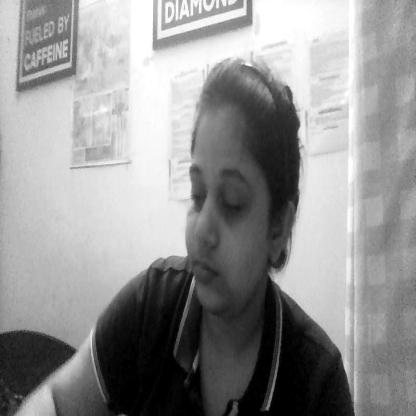Distracted: (183, 86, 292, 312)
